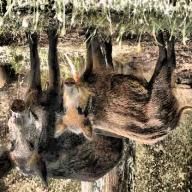boar: (0, 55, 145, 191), (55, 33, 192, 147)
